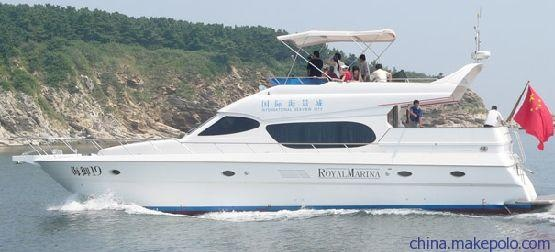yacht: (15, 26, 539, 214)
